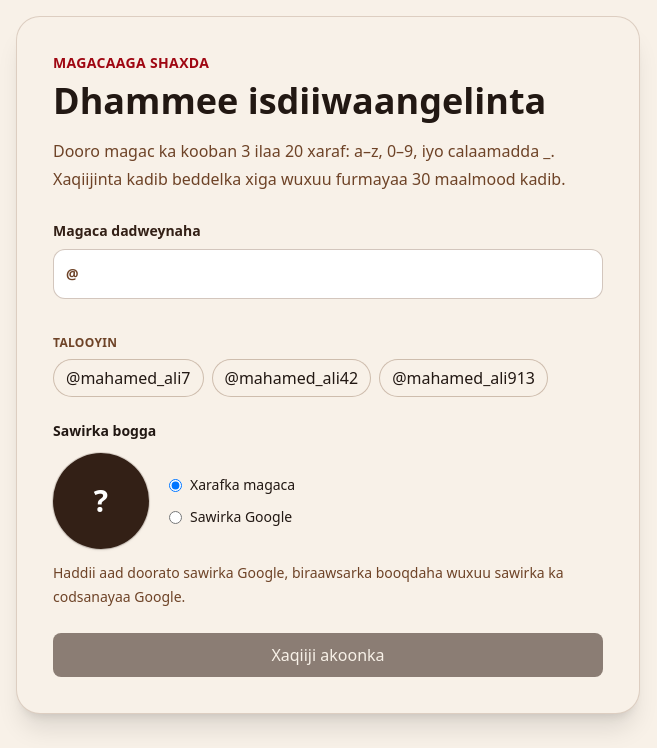
/register username selection › fills the field only when a suggestion is clicked
Click the button "@mahamed_ali42". click: (291, 378)
box: top-left (212, 359), bottom-right (371, 397)
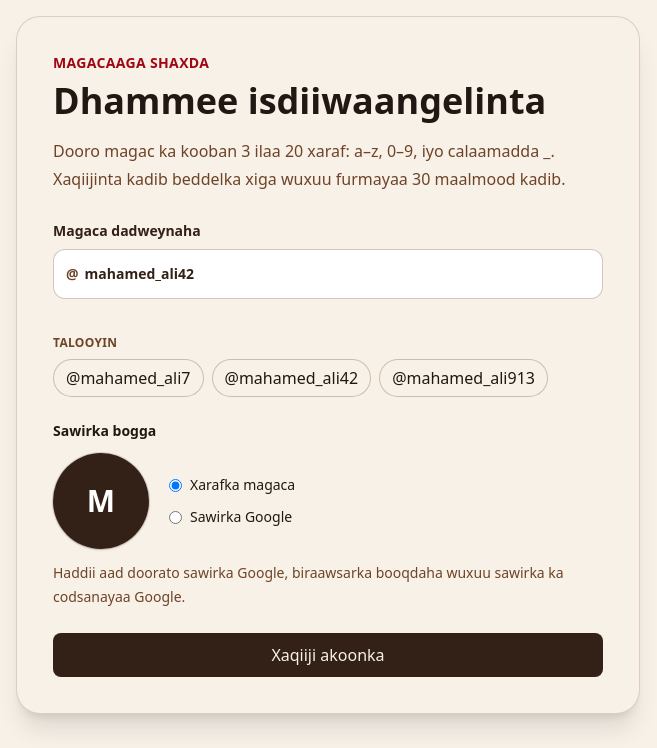
Expected: the field holds "mahamed_ali42", top-left (79, 250), bottom-right (602, 298)
Expected: the button "Xaqiiji akoonka" is enabled, top-left (53, 633), bottom-right (603, 677)
